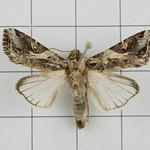Spodoptera litura: (1, 28, 150, 129)
